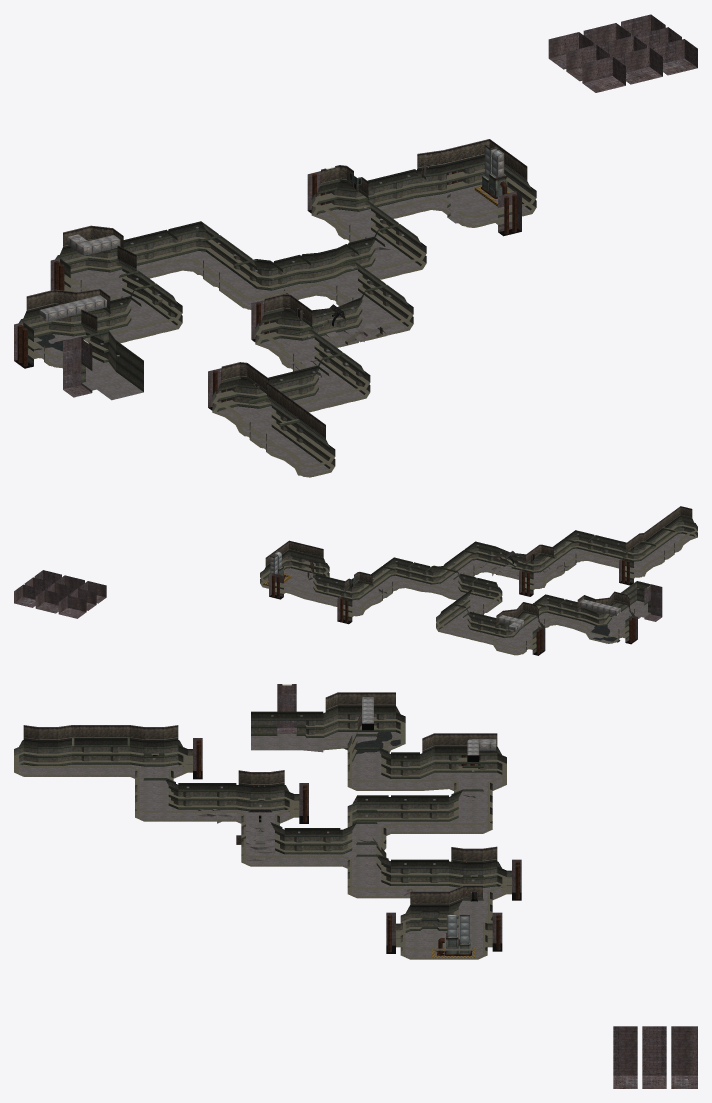
Rendered from ba_yard3a.gltf.
The picture shows the model from 3 angles, top to bottom: view 1: azimuth 30°, elevation 25°; view 2: azimuth 150°, elevation 25°; view 3: azimuth 270°, elevation 25°; orthographic projection. The views are drawn at different scales.
Visible parts, largest first — view 1: maps/ba_yard3a.bsp; view 2: maps/ba_yard3a.bsp; view 3: maps/ba_yard3a.bsp.
Boxes of the visible parts, x1=… form: maps/ba_yard3a.bsp: x1=14, y1=14, x2=697, y2=477; maps/ba_yard3a.bsp: x1=14, y1=506, x2=697, y2=655; maps/ba_yard3a.bsp: x1=14, y1=684, x2=697, y2=1088.
Bounding box in the file's own units: 140 × 8.8 × 113.
33 materials, 33 textured.
